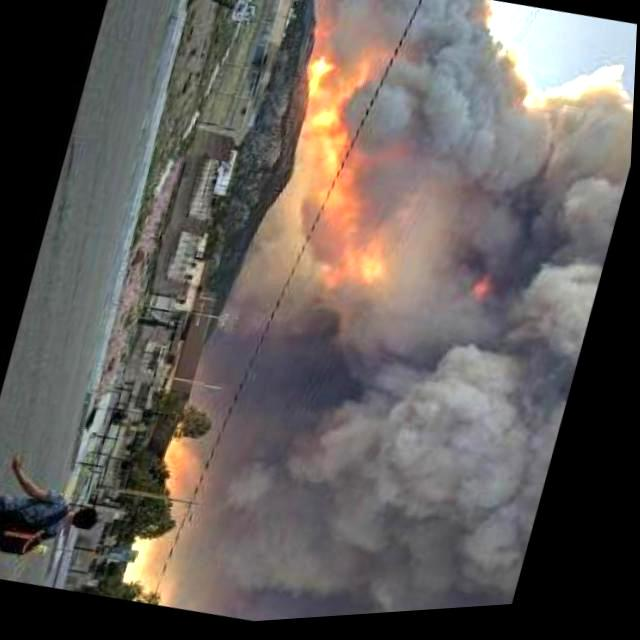fire: (157, 1, 639, 632), (264, 29, 382, 215), (316, 188, 408, 308)
